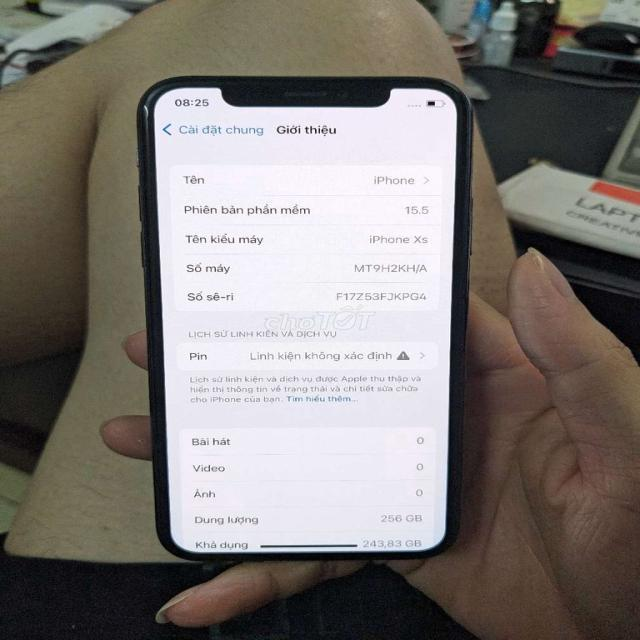gen_x_xs: (128, 71, 483, 571)
